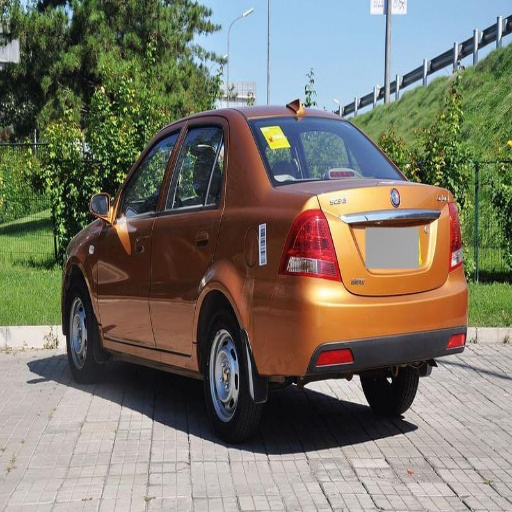back_bumper: (249, 265, 461, 382)
back_glass: (248, 119, 399, 178)
back_left_door: (155, 119, 223, 356)
